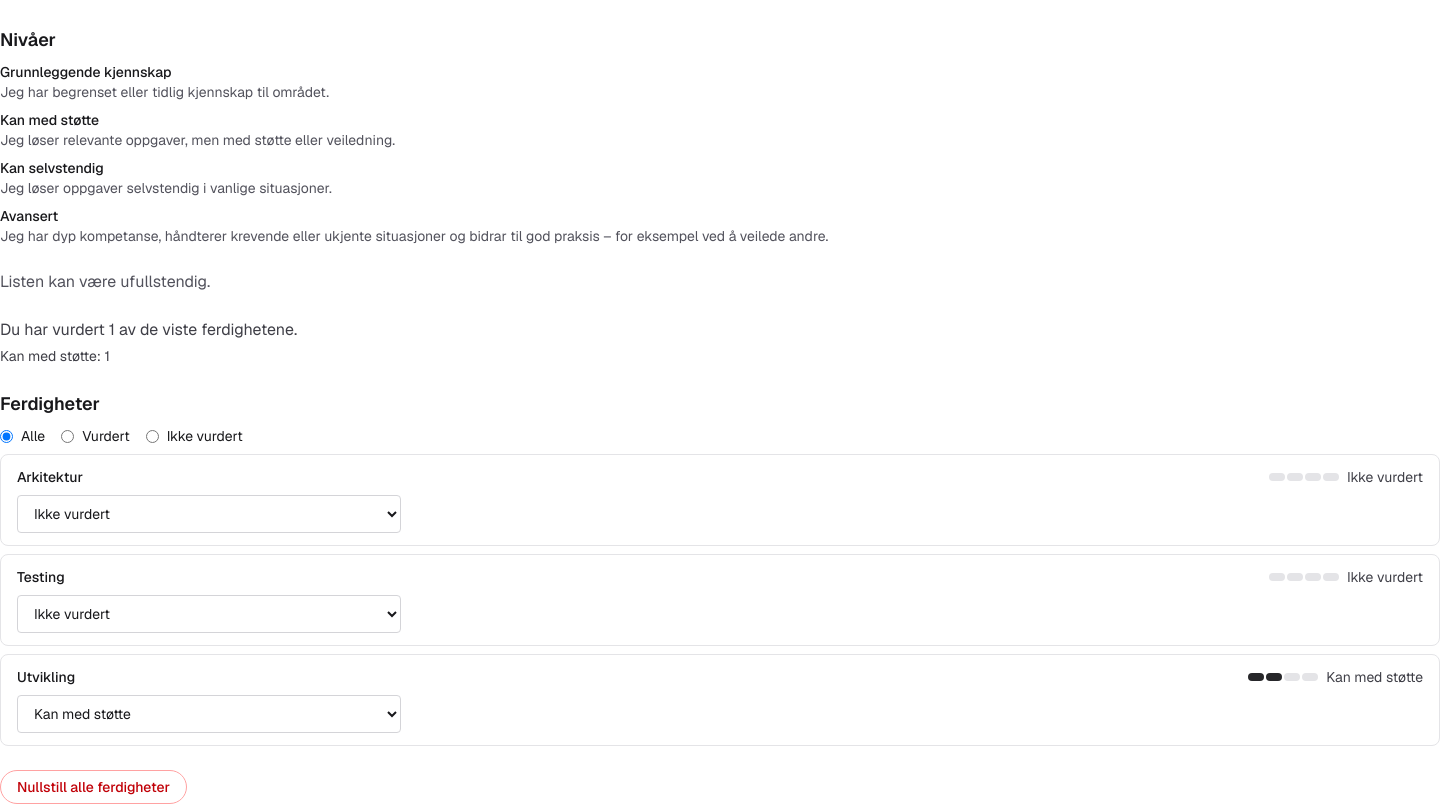
Test: SkillProfilePage — repeated reset on a truncated catalog (TASK-010 remediation) › a failed second reset neither re-exposes the first success nor drops focus to body
(page scrolled)
Click the button "Nullstill alle ferdigheter". click: (94, 787)
box: top-left (0, 770), bottom-right (187, 803)
(page scrolled)
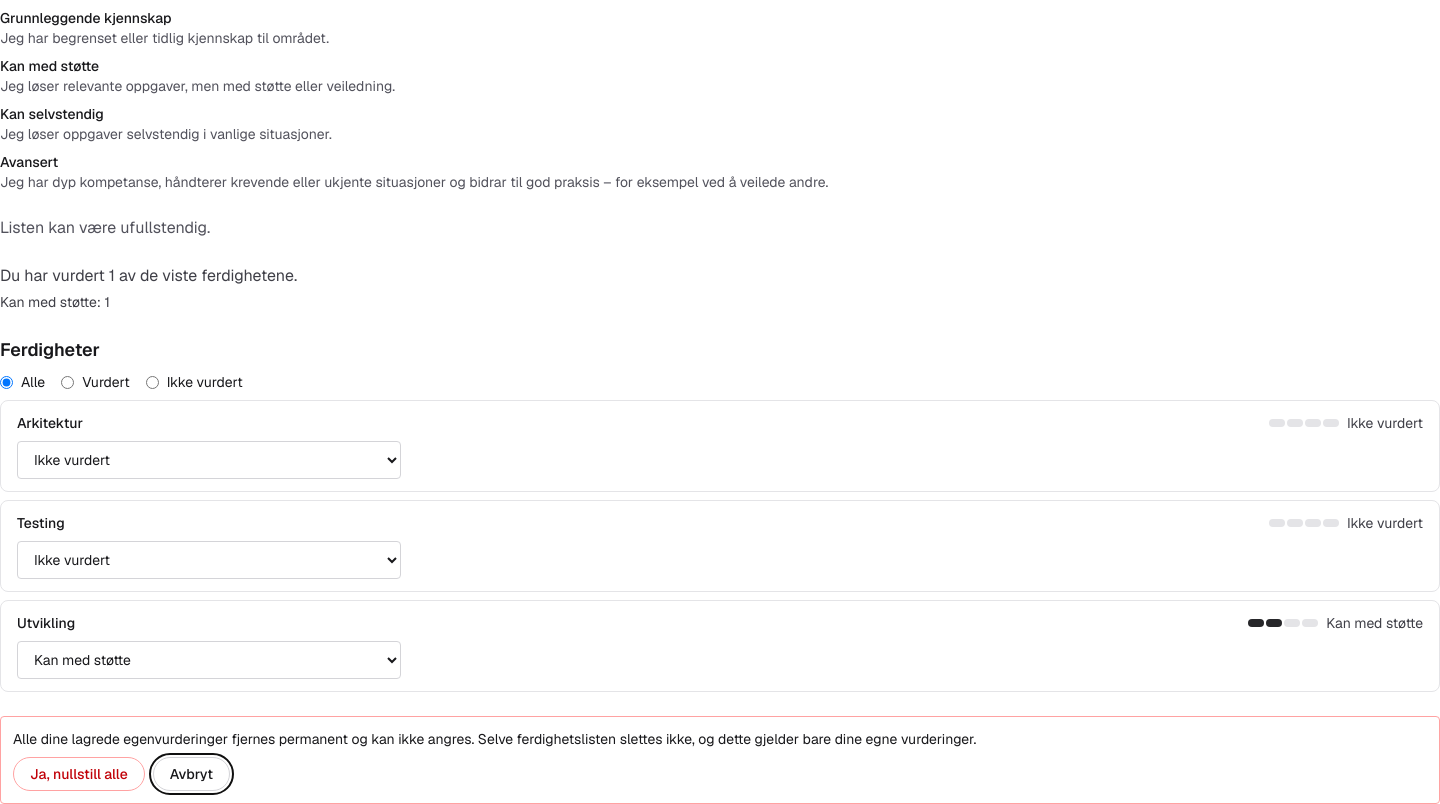
Click the button "Ja, nullstill alle". click: (79, 774)
box: top-left (13, 757), bottom-right (145, 791)
(page scrolled)
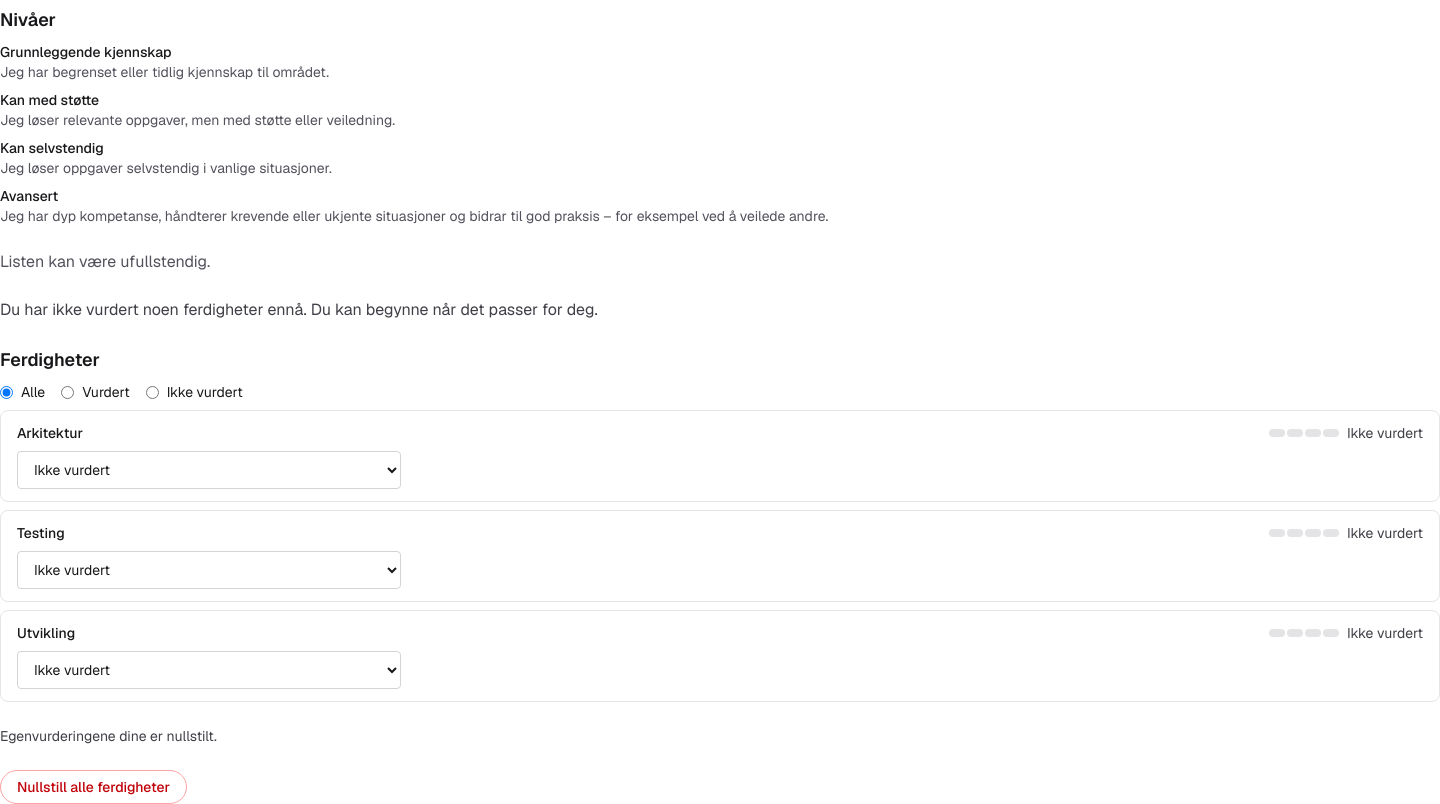
Expected: the text "Egenvurderingene dine er nullstilt." is shown, top-left (0, 727), bottom-right (217, 745)
Click the button "Nullstill alle ferdigheter". click: (94, 787)
box: top-left (0, 770), bottom-right (187, 803)
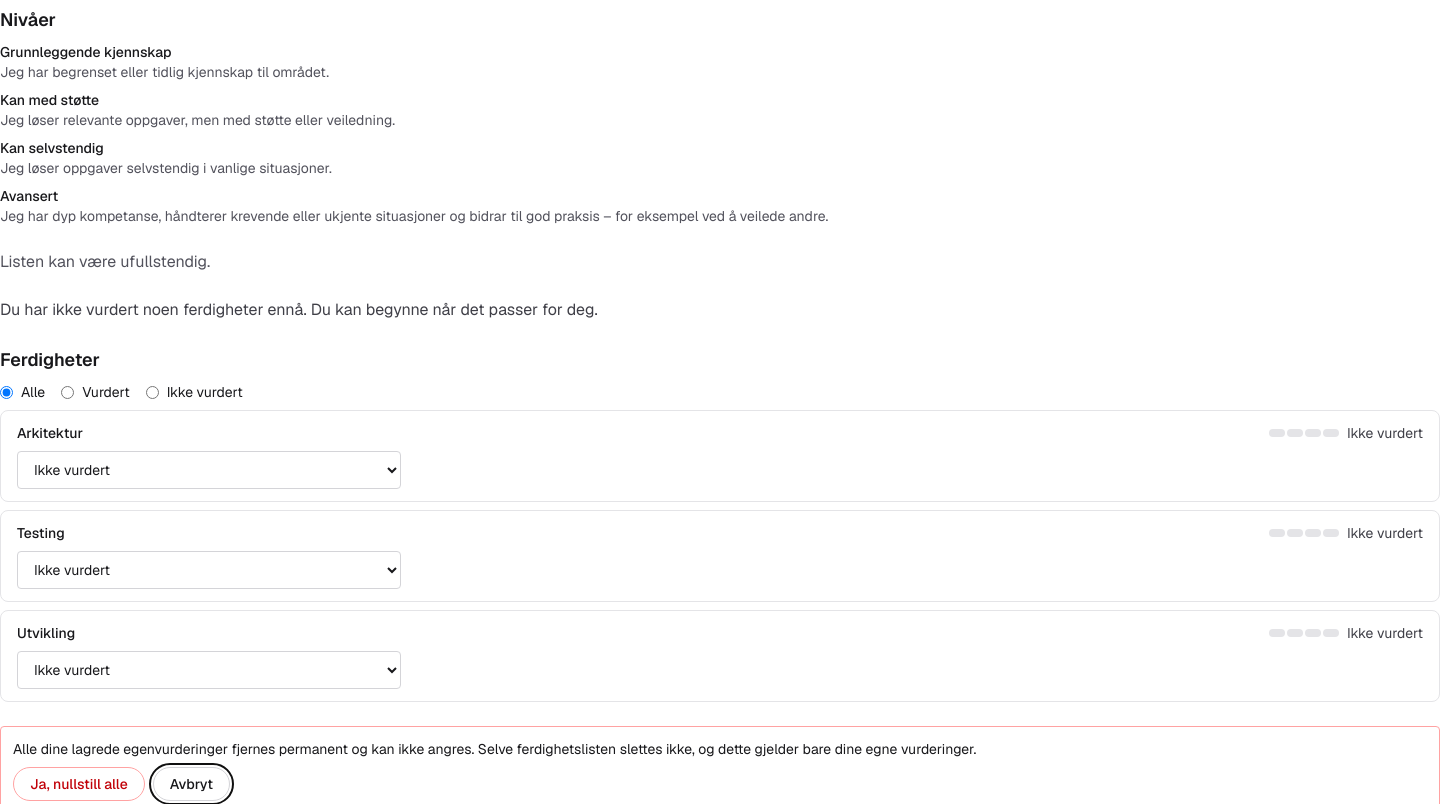
Expected: the text "Egenvurderingene dine er nullstilt." is gone
Click the button "Ja, nullstill alle". click: (79, 784)
box: top-left (13, 767), bottom-right (145, 801)
(page scrolled)
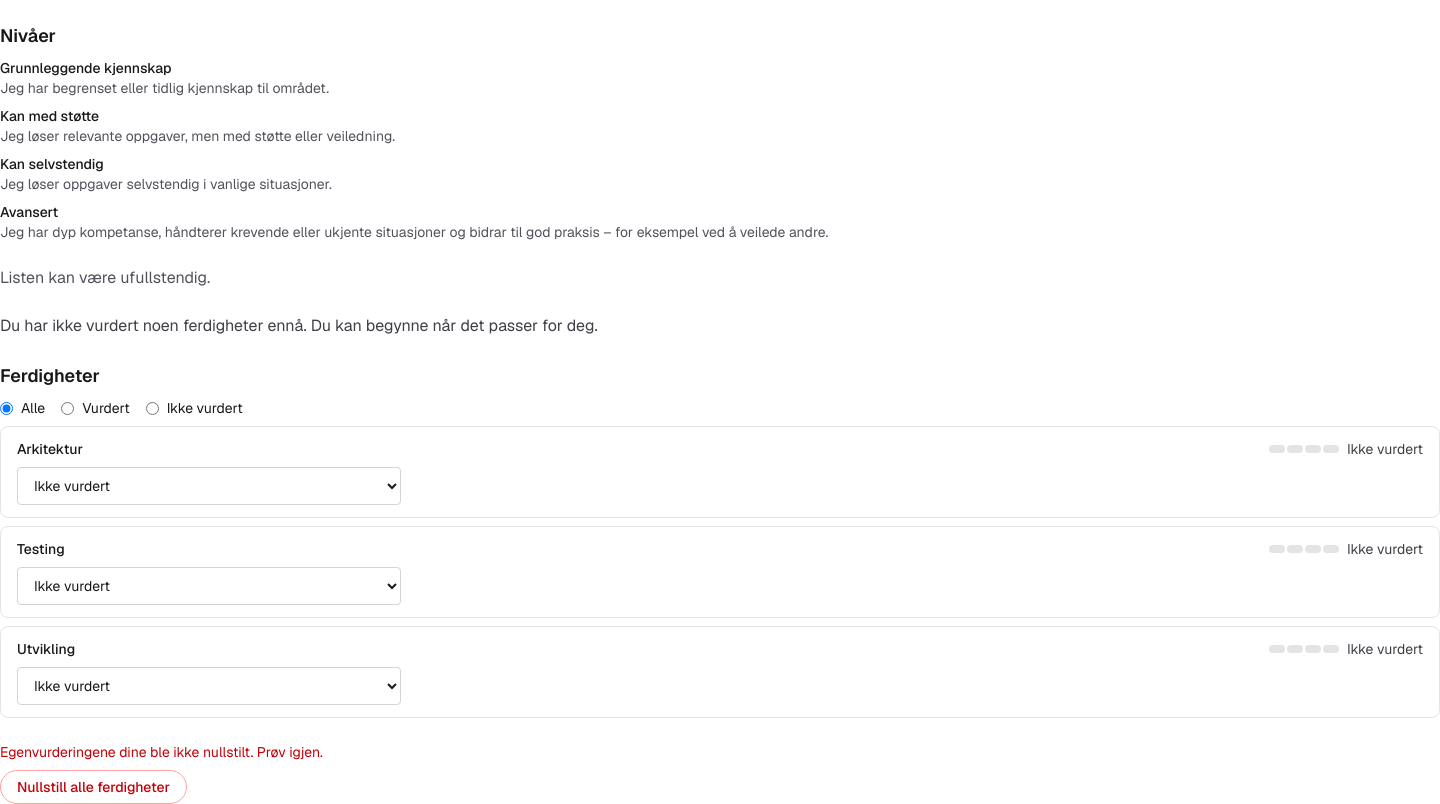
Expected: the dropdown labelled "Utvikling" shows "Ikke vurdert", top-left (17, 667), bottom-right (401, 705)
Expected: the message "Egenvurderingene dine ble ikke nullstilt. Prøv igjen." is shown, top-left (0, 743), bottom-right (323, 761)
Expected: the button "Nullstill alle ferdigheter" is enabled, top-left (0, 770), bottom-right (187, 803)
